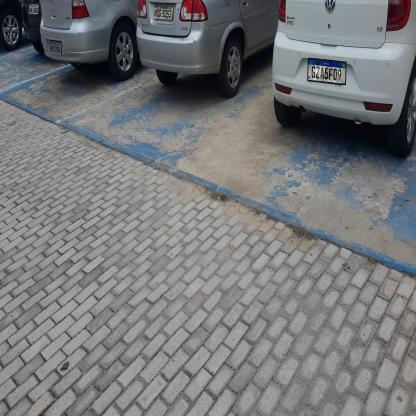PlacaM: (307, 58, 347, 85)
